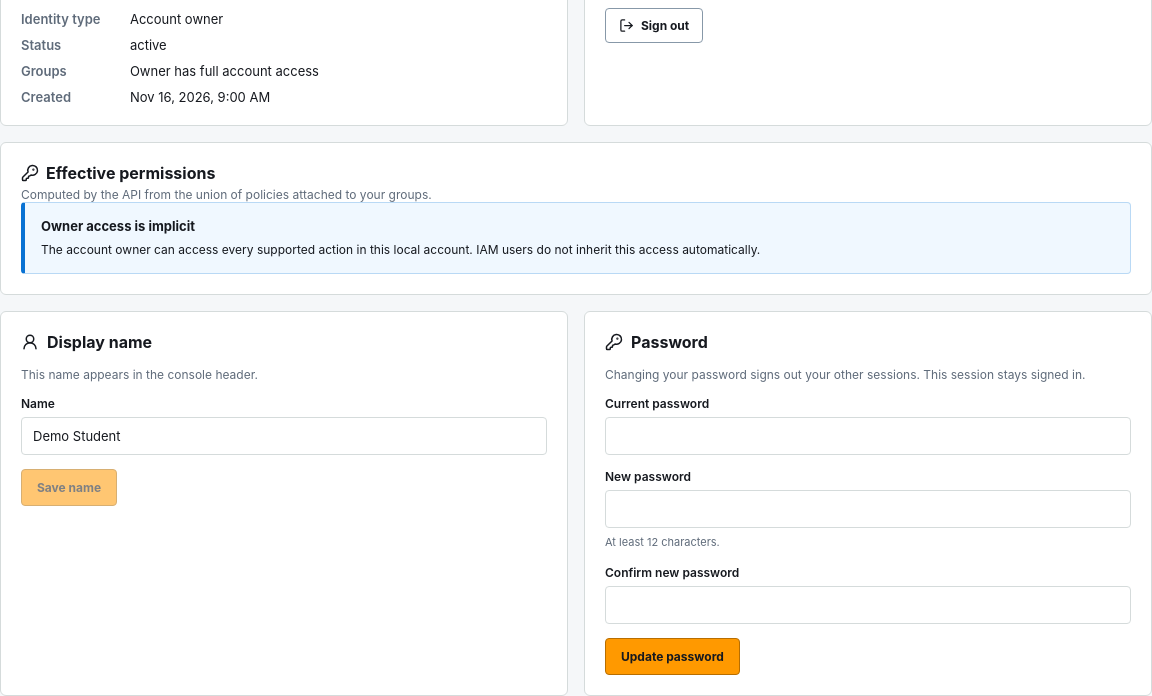
Test case: account page › updates the display name through the API
(page scrolled)
Replace the text in the field showing "Demo Student" with "Renamed Student" at (284, 436), box 21,417 -> 547,455
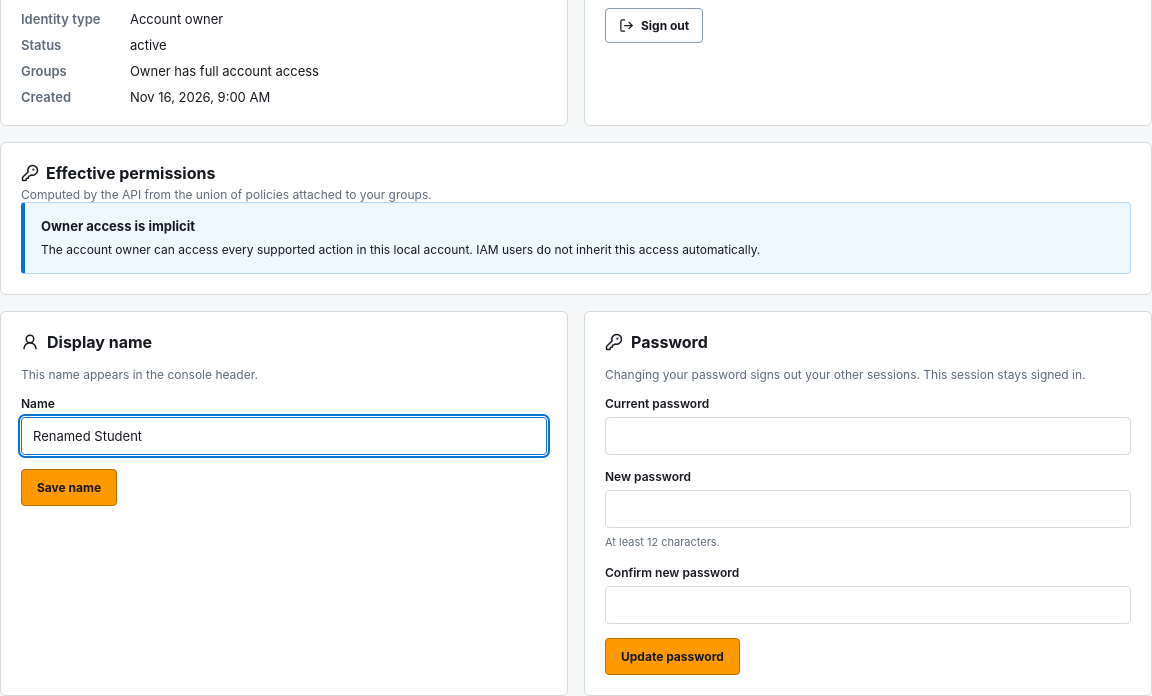
Click the button "Save name".
click(69, 488)  # box 21,469 -> 117,506
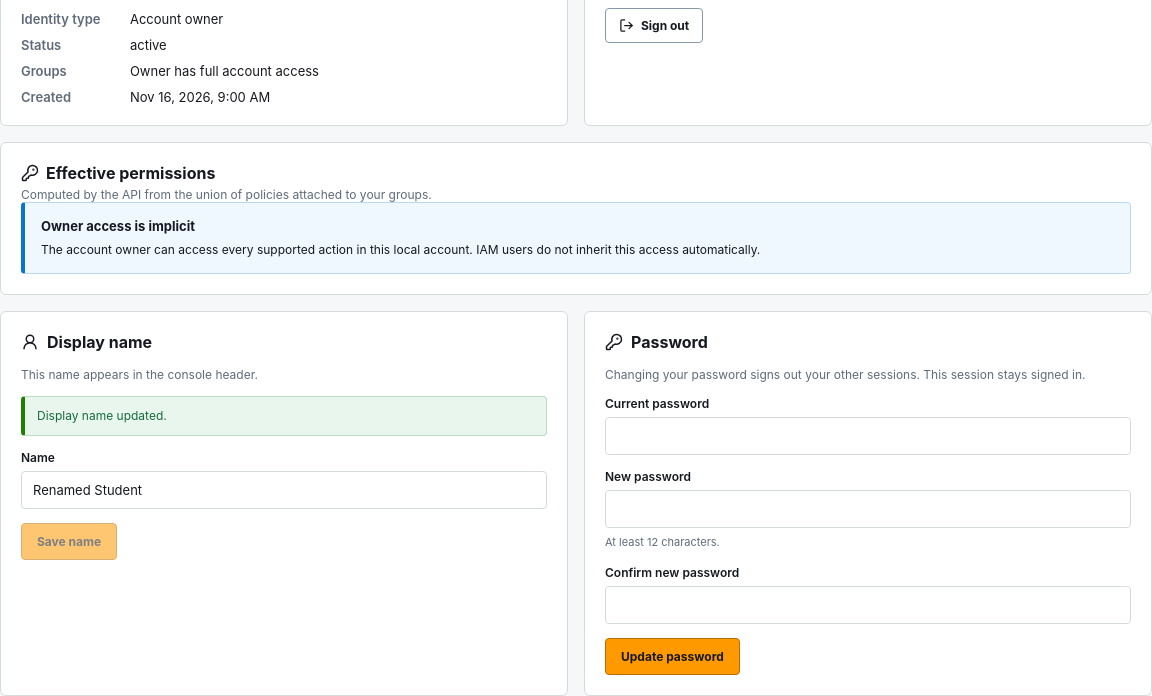
Expected: the message reads "Display name updated.", 37,408 -> 167,423
